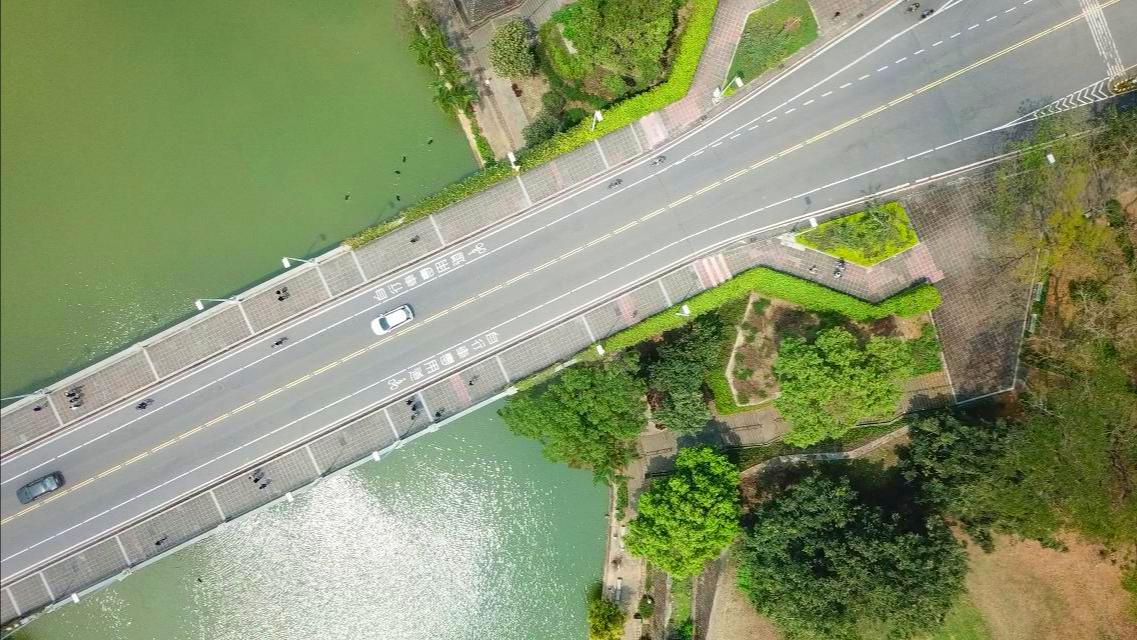vehicle: (16, 472, 63, 505), (370, 303, 414, 335)
